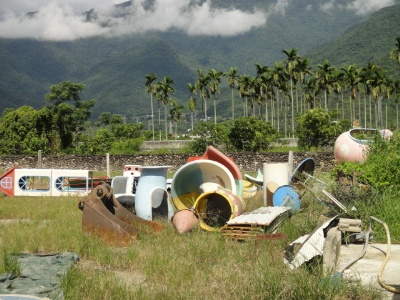bucket: (191, 189, 241, 233)
